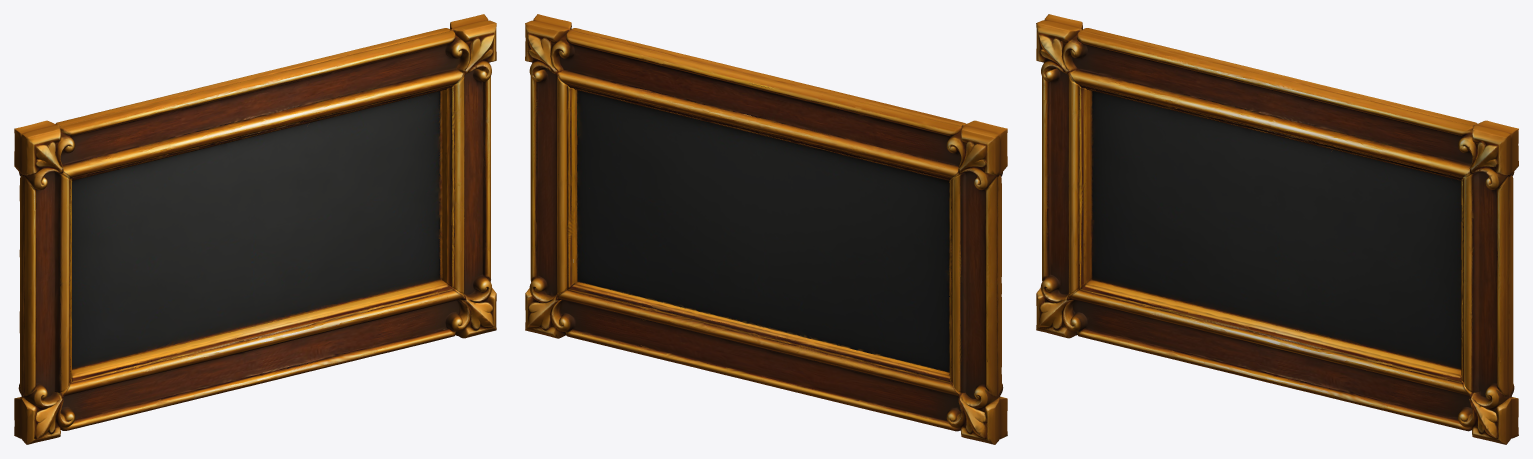
The model's file is pic-frame.glb.
3 views of the same model, side by side, from view 1: azimuth 30°, elevation 25°; view 2: azimuth 150°, elevation 25°; view 3: azimuth 330°, elevation 25° (orthographic).
Parts seen in each view (by area): view 1: tripo_node_40e708d1-5285-4a79-8e33-639e3e58cc3f; view 2: tripo_node_40e708d1-5285-4a79-8e33-639e3e58cc3f; view 3: tripo_node_40e708d1-5285-4a79-8e33-639e3e58cc3f.
Boxes of the visible parts, x1,y1,x2,y2 form: tripo_node_40e708d1-5285-4a79-8e33-639e3e58cc3f: [14, 14, 496, 444]; tripo_node_40e708d1-5285-4a79-8e33-639e3e58cc3f: [525, 14, 1007, 444]; tripo_node_40e708d1-5285-4a79-8e33-639e3e58cc3f: [1036, 14, 1518, 444].
Size of the model in its own units: 0.9802 by 0.6131 by 0.0876.
Materials: 1 (1 with a texture image).
